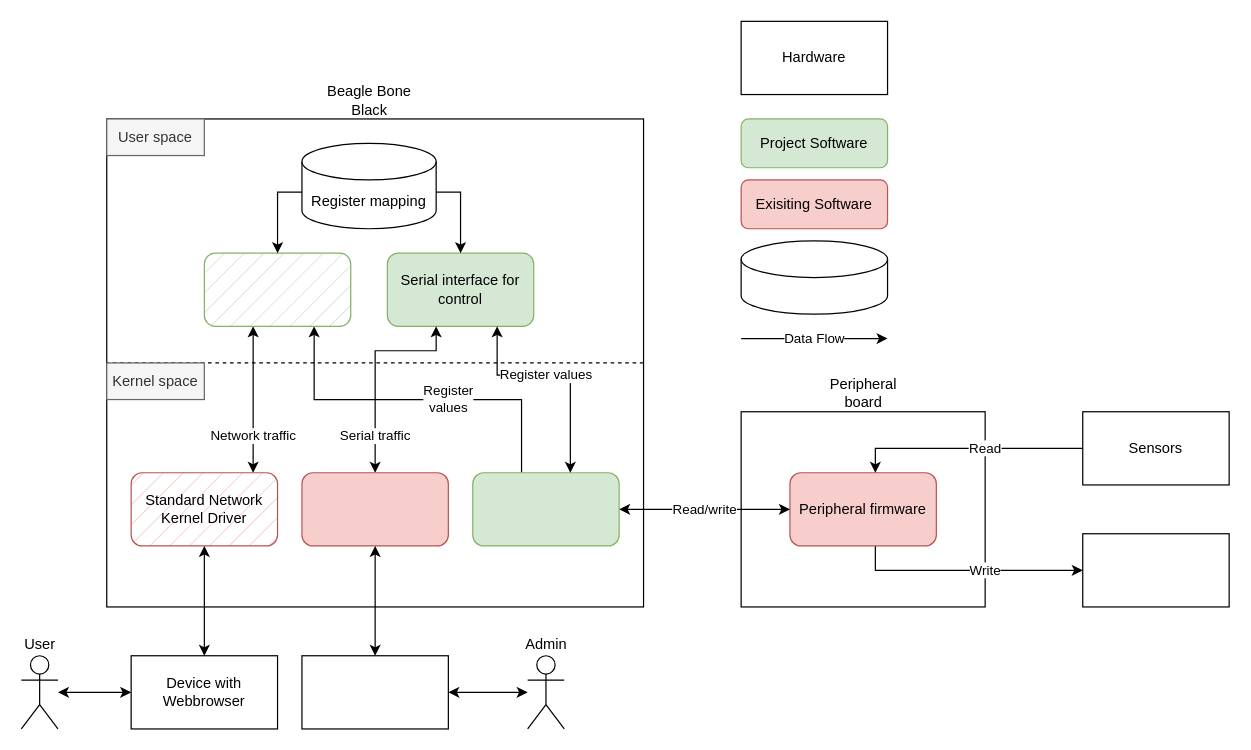
Image size: 1251x750. Some labels were removed from this diagram. The centre of each missing label's shape, as x and y in pixels:
Actuators: [1155,570]
Custom Serial Modbus Kernel Driver: [545,509]
Data Store: [814,277]
Dervice with serial terminal: [374,692]
Sandard Serial Kernel Driver: [374,509]
Web Interface for Reading: [277,289]
